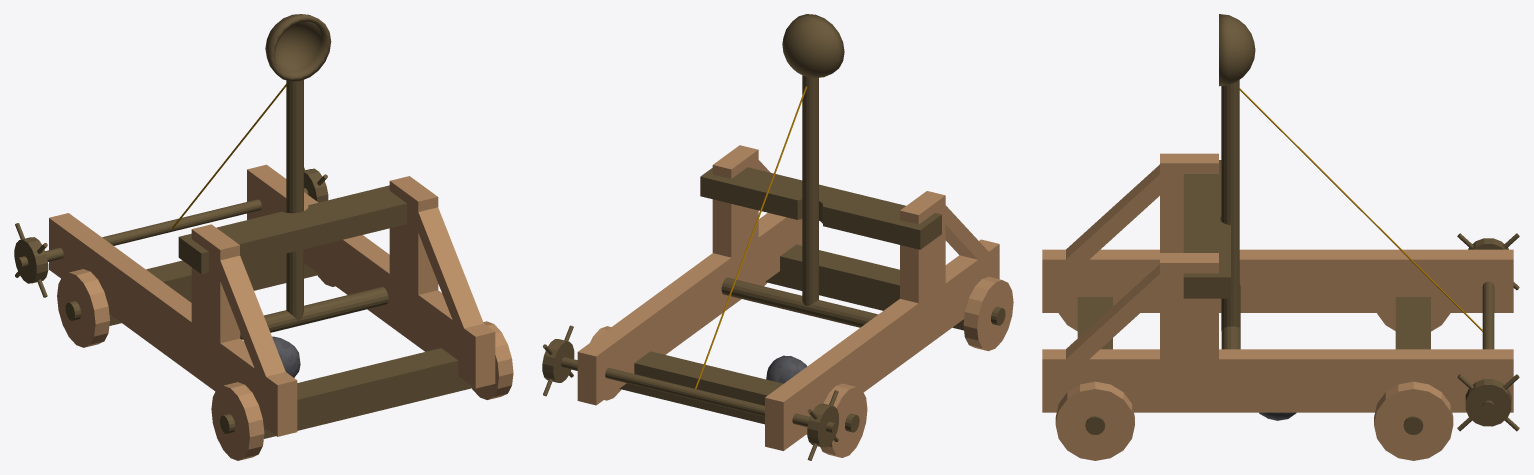
Rendered from catapult.glb.
3 views of the same model, side by side, from view 1: azimuth 30°, elevation 25°; view 2: azimuth 150°, elevation 25°; view 3: azimuth 270°, elevation 25° (orthographic). The views are drawn at different scales.
Visible parts, largest first — view 1: Chassis, RamBar, AxleCase.f, ThrowingArm, Bucket, Wheel.br, Wheel.fr, AxleCase.b, ReloadAxle, ReloadWheel.r, Wheel.fl, Rock (+1 smaller); view 2: Chassis, RamBar, ThrowingArm, AxleCase.b, AxleCase.f, Bucket, Wheel.fr, ReloadAxle, Wheel.br, ReloadWheel.r, ReloadWheel.l, Rock (+1 smaller); view 3: Chassis, RamBar, Wheel.fl, Wheel.bl, ThrowingArm, Bucket, ReloadWheel.l, AxleCase.b, AxleCase.f, ReloadAxle, Rope, ReloadWheel.r.
Boxes of the visible parts, x1,y1,x2,y2 form: Chassis: [49, 164, 495, 436]; RamBar: [178, 185, 406, 274]; AxleCase.f: [260, 348, 473, 438]; ThrowingArm: [240, 80, 388, 339]; Bucket: [265, 14, 331, 81]; Wheel.br: [57, 269, 109, 347]; Wheel.fr: [211, 382, 264, 460]; AxleCase.b: [105, 253, 319, 325]; ReloadAxle: [16, 188, 308, 268]; ReloadWheel.r: [14, 223, 48, 297]; Wheel.fl: [472, 321, 513, 399]; Rock: [272, 336, 300, 377]; Chassis: [577, 145, 999, 450]; RamBar: [700, 167, 941, 249]; ThrowingArm: [721, 75, 877, 327]; AxleCase.b: [619, 351, 807, 434]; AxleCase.f: [765, 244, 967, 330]; Bucket: [782, 14, 844, 77]; Wheel.fr: [963, 276, 1013, 351]; ReloadAxle: [561, 357, 837, 433]; Wheel.br: [820, 383, 867, 457]; ReloadWheel.r: [807, 390, 838, 460]; ReloadWheel.l: [542, 325, 574, 396]; Rock: [766, 355, 807, 383]; Chassis: [1042, 153, 1513, 412]; RamBar: [1183, 160, 1230, 298]; Wheel.fl: [1055, 381, 1134, 460]; Wheel.bl: [1374, 381, 1453, 460]; ThrowingArm: [1221, 80, 1240, 349]; Bucket: [1219, 14, 1255, 86]; ReloadWheel.l: [1457, 374, 1519, 431]; AxleCase.b: [1395, 297, 1430, 349]; AxleCase.f: [1077, 297, 1112, 349]; ReloadAxle: [1482, 281, 1494, 412]; Rope: [1239, 88, 1482, 331]; ReloadWheel.r: [1457, 233, 1519, 290].
Size of the model in its own units: 3.05 by 3.76 by 4.05.
Materials: 4 (1 with a texture image).
